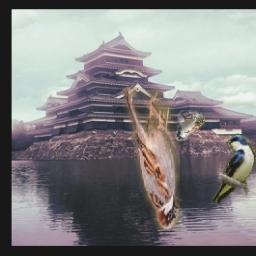Sparrow: (124, 88, 181, 231), (176, 111, 206, 141)
Swallow: (212, 133, 256, 203)
